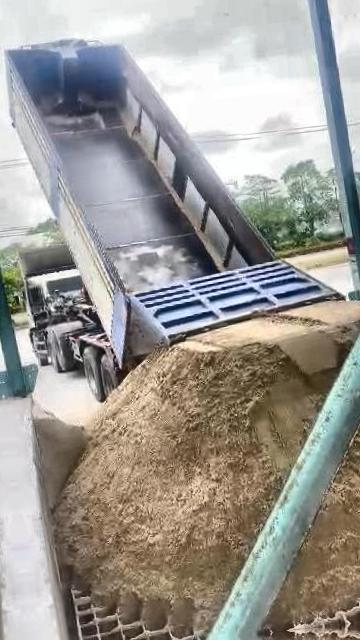sand: (57, 303, 360, 629), (270, 375, 360, 628), (35, 406, 88, 511)
